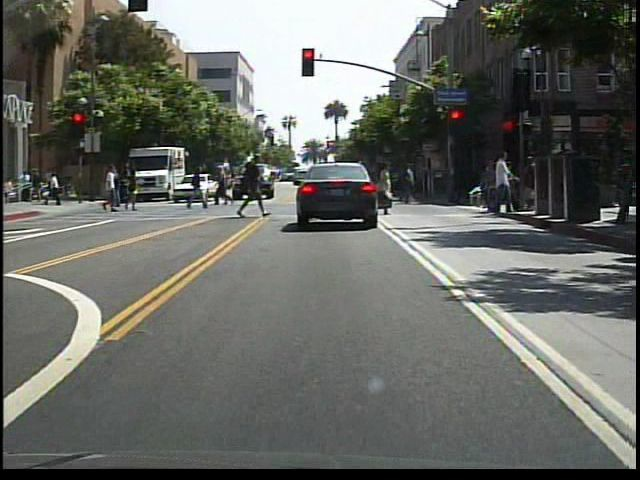person: (237, 150, 271, 223), (488, 148, 520, 210), (103, 165, 126, 216), (103, 166, 125, 213), (189, 168, 210, 215), (380, 162, 398, 216), (216, 166, 234, 208), (126, 169, 141, 214)
